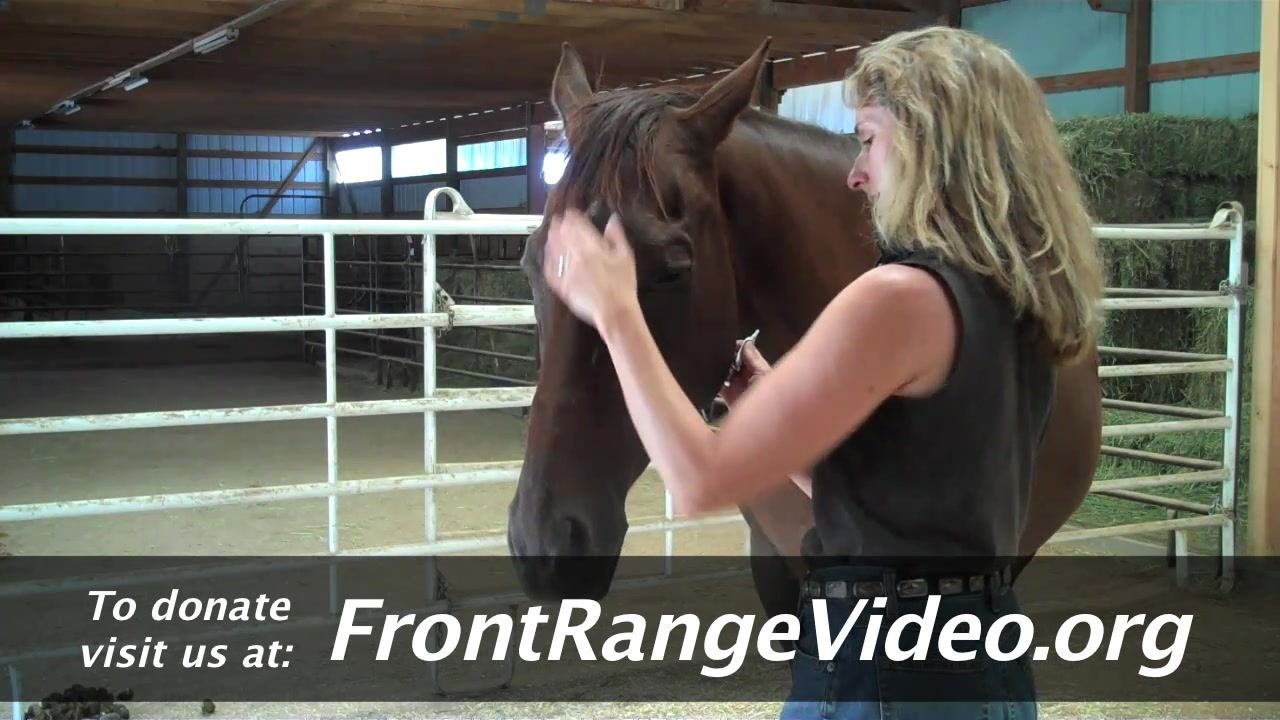horse: (509, 35, 1106, 720)
